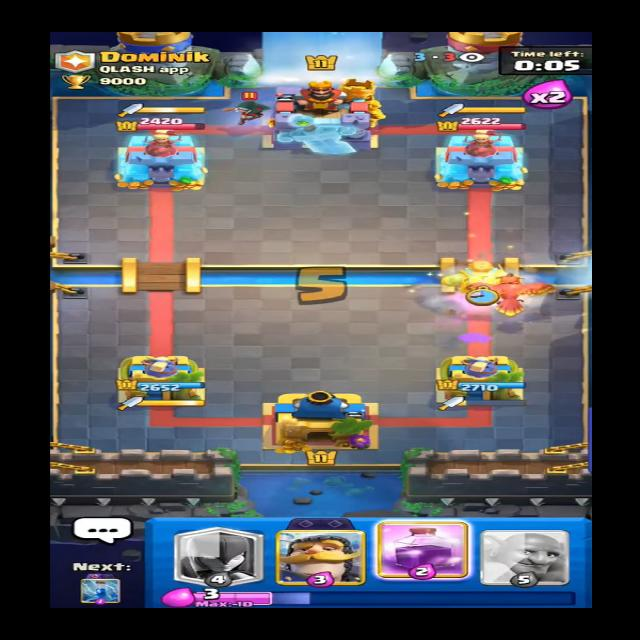bandit: (223, 90, 271, 126)
